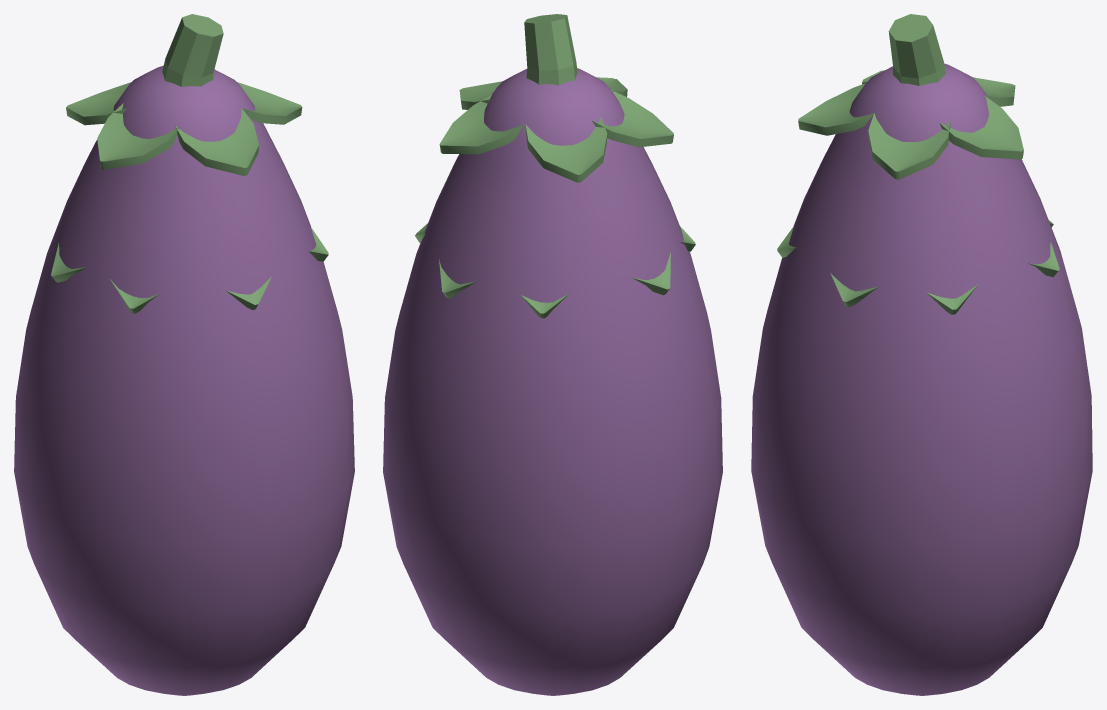
Rendered from fresh-produce-and-groceries-aubergine-8d7c48ab__24377.glb.
3 renders of one model, left to right at view 1: azimuth 30°, elevation 25°; view 2: azimuth 150°, elevation 25°; view 3: azimuth 270°, elevation 25°, orthographic.
Visible parts, largest first — view 1: aubergine; view 2: aubergine; view 3: aubergine.
Part boxes in pixels (x1,y1,x2,y2): aubergine: (14, 14, 354, 695); aubergine: (383, 14, 722, 695); aubergine: (751, 14, 1092, 695).
Size of the model in its own units: 0.0912 by 0.1977 by 0.091.
